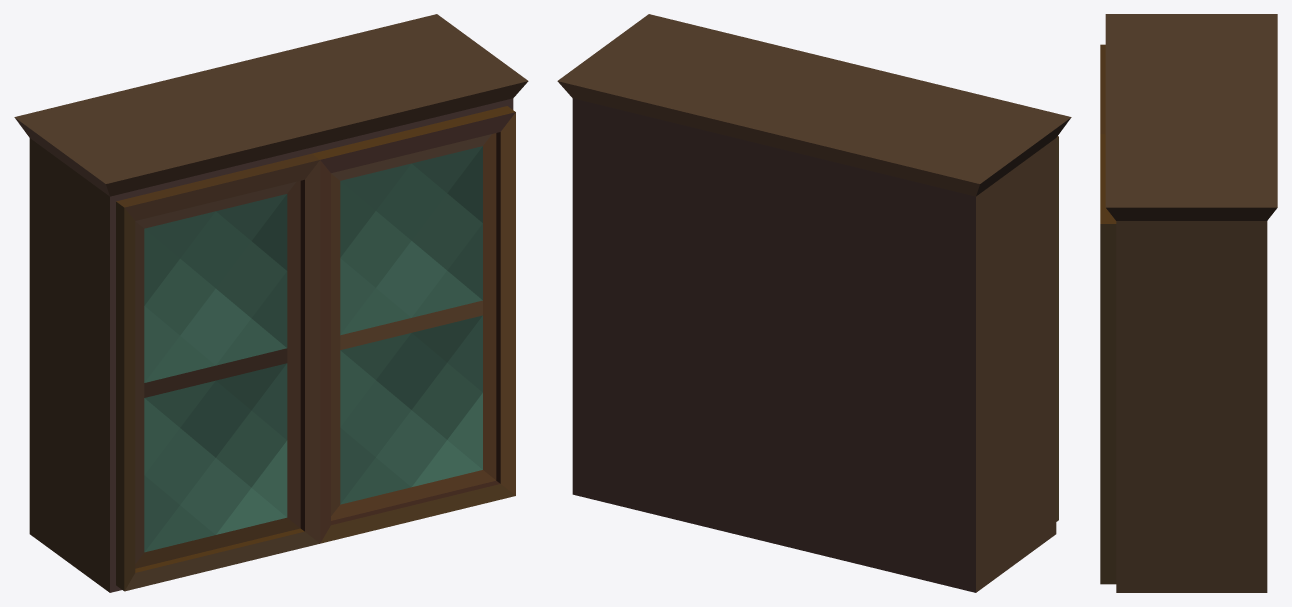
File: Furniture_CupboardB.fbx
The picture shows the model from 3 angles, left to right: view 1: azimuth 30°, elevation 25°; view 2: azimuth 150°, elevation 25°; view 3: azimuth 270°, elevation 25°; orthographic projection. The views are drawn at different scales.
Parts seen in each view (by area): view 1: Furniture_CupboardB; view 2: Furniture_CupboardB; view 3: Furniture_CupboardB.
Part boxes in pixels (x1,y1,x2,y2): Furniture_CupboardB: (14,14,528,592); Furniture_CupboardB: (557,14,1071,592); Furniture_CupboardB: (1100,14,1277,592).
Size of the model in its own units: 178 by 167 by 68.76.
